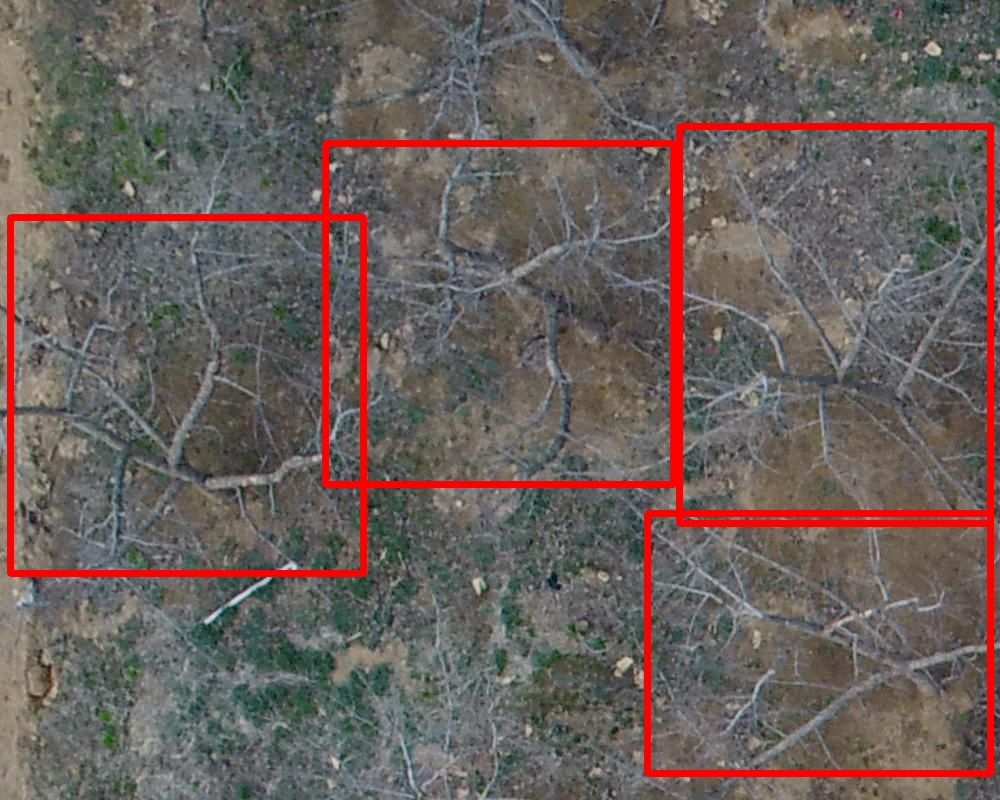apple: (10, 217, 363, 573), (679, 126, 990, 523), (325, 143, 673, 484), (647, 513, 990, 773)
